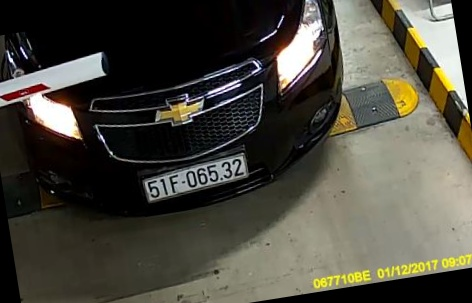plate: (137, 156, 247, 207)
